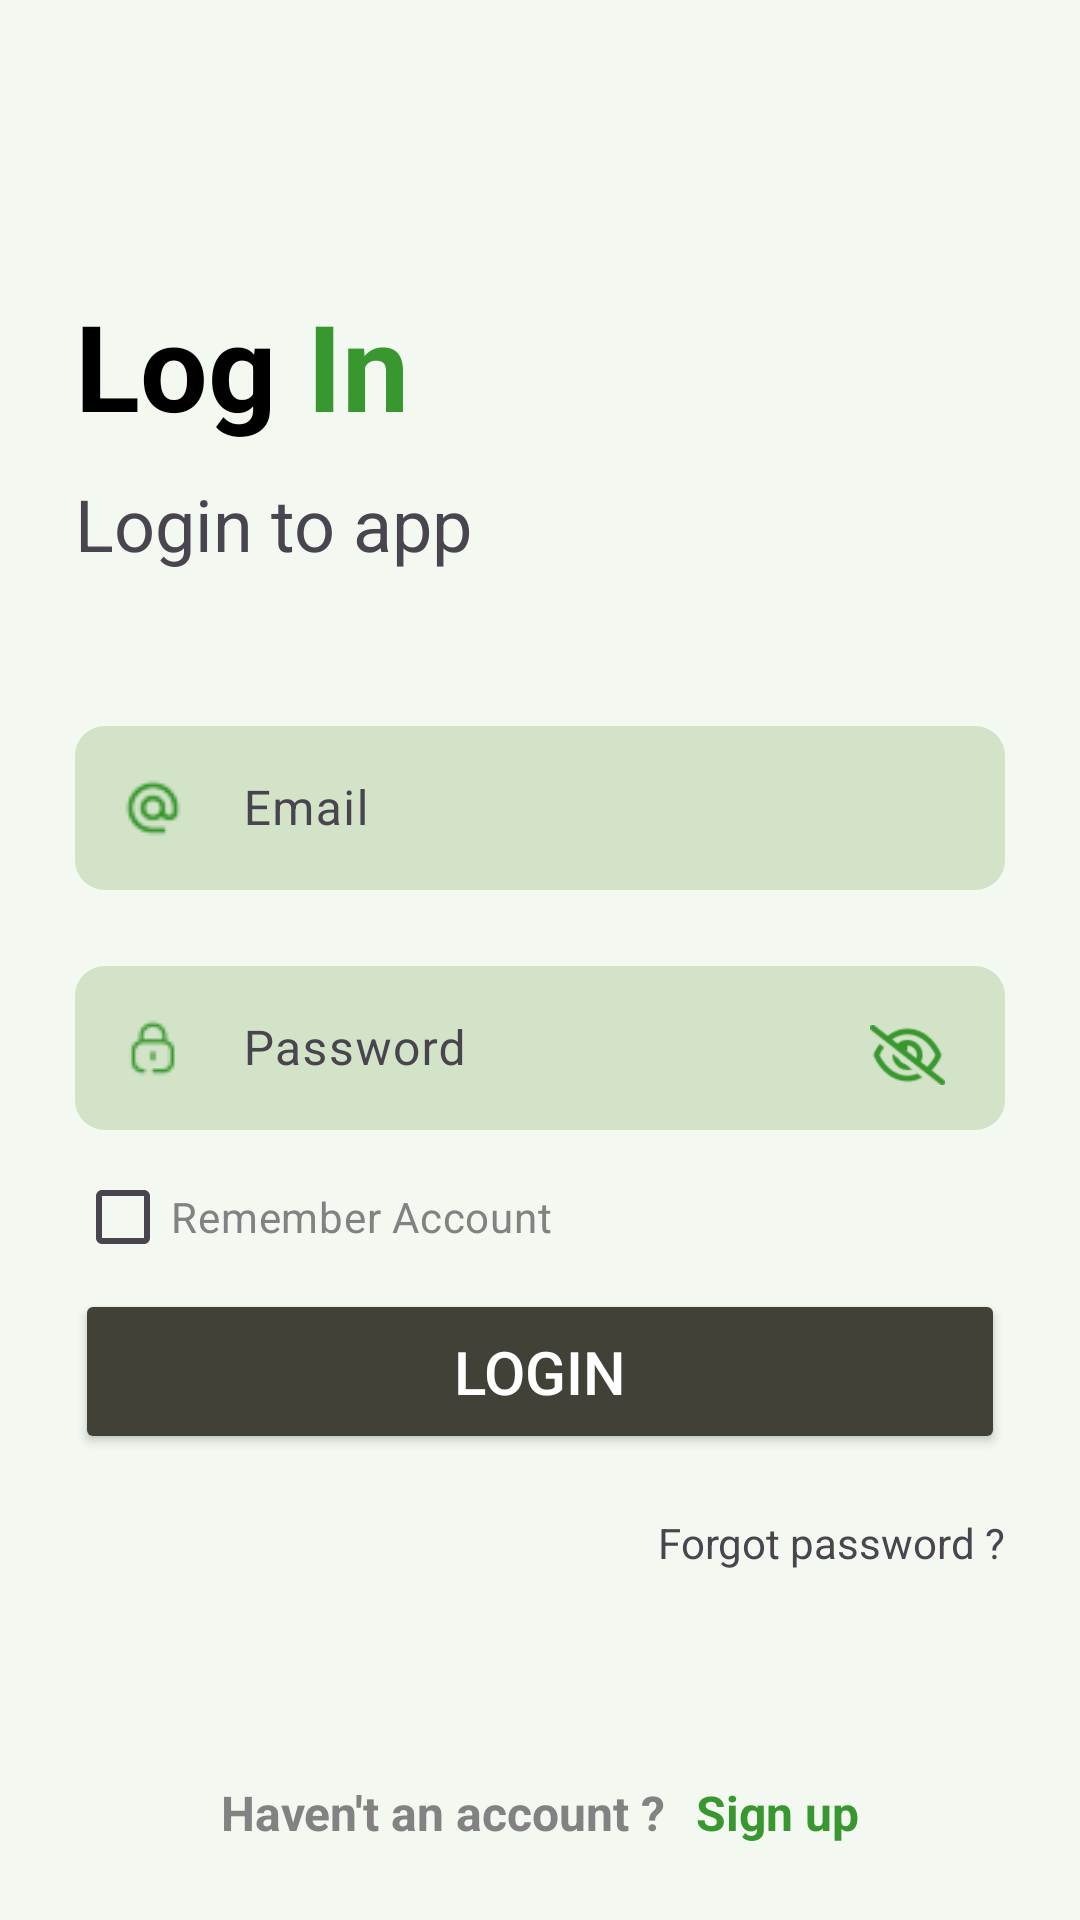

Icon bounding boxes for this 1080*1920 phone screenshot, format (left=x1, top=y1, right=x2, bottom=y2):
close eye: (left=870, top=1025, right=945, bottom=1085)
